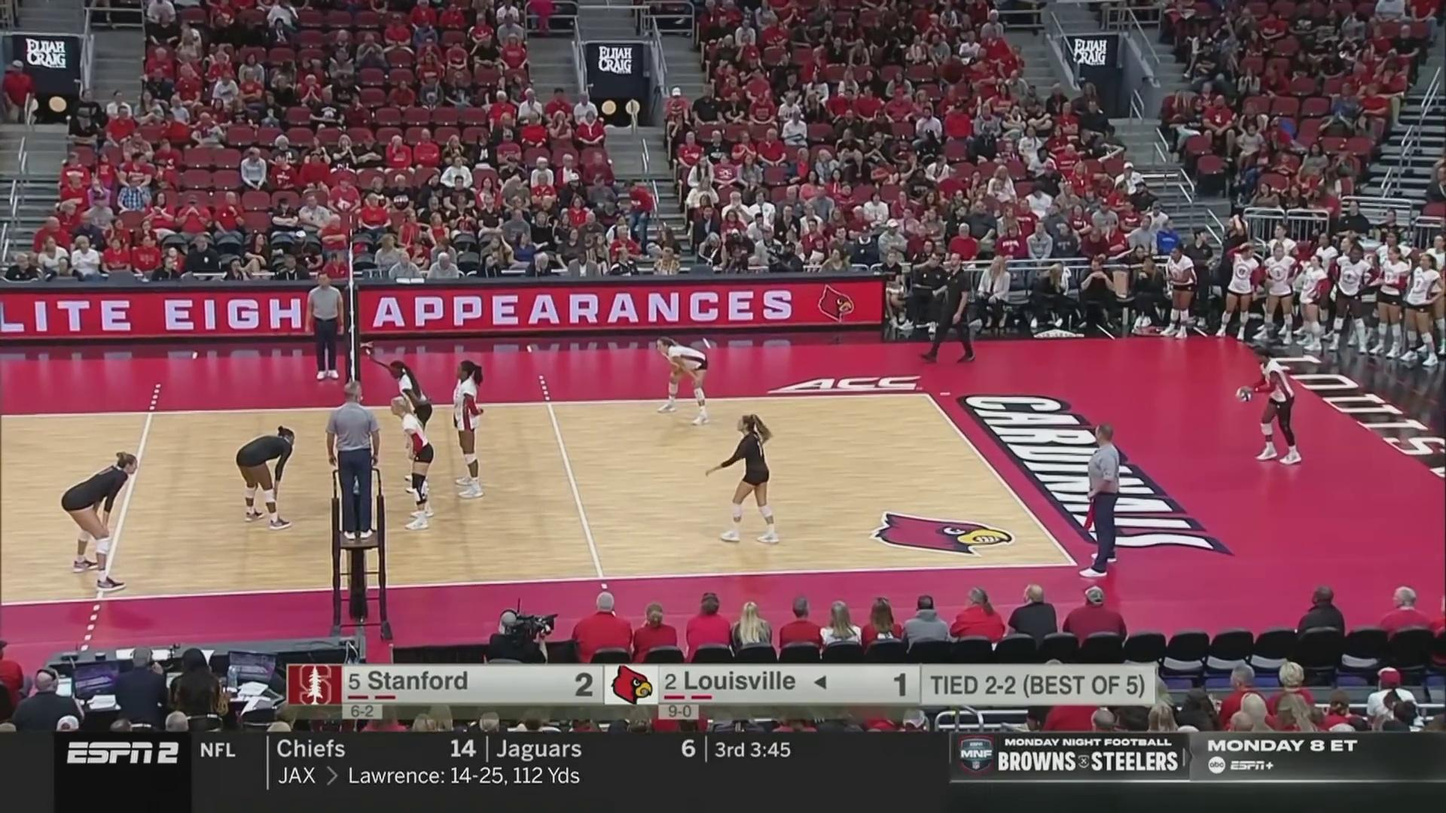player: (65, 450, 142, 587), (707, 413, 783, 543), (388, 396, 436, 532), (1243, 351, 1300, 465), (390, 356, 434, 493), (236, 424, 294, 527), (657, 339, 715, 424), (452, 358, 486, 497)
refree: (330, 383, 382, 541), (1080, 420, 1122, 579), (306, 274, 343, 381)
